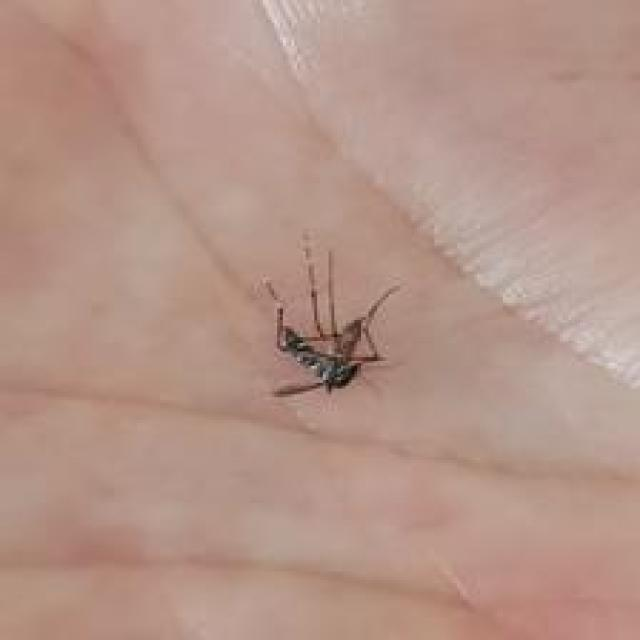Aedes albopictus: (258, 229, 402, 400)
